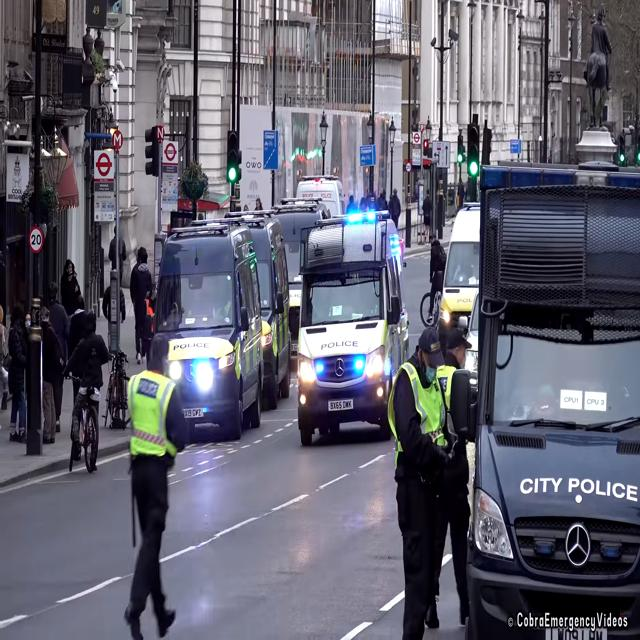emergency-vehicles: (442, 158, 640, 640), (289, 199, 421, 447), (141, 214, 266, 451)
